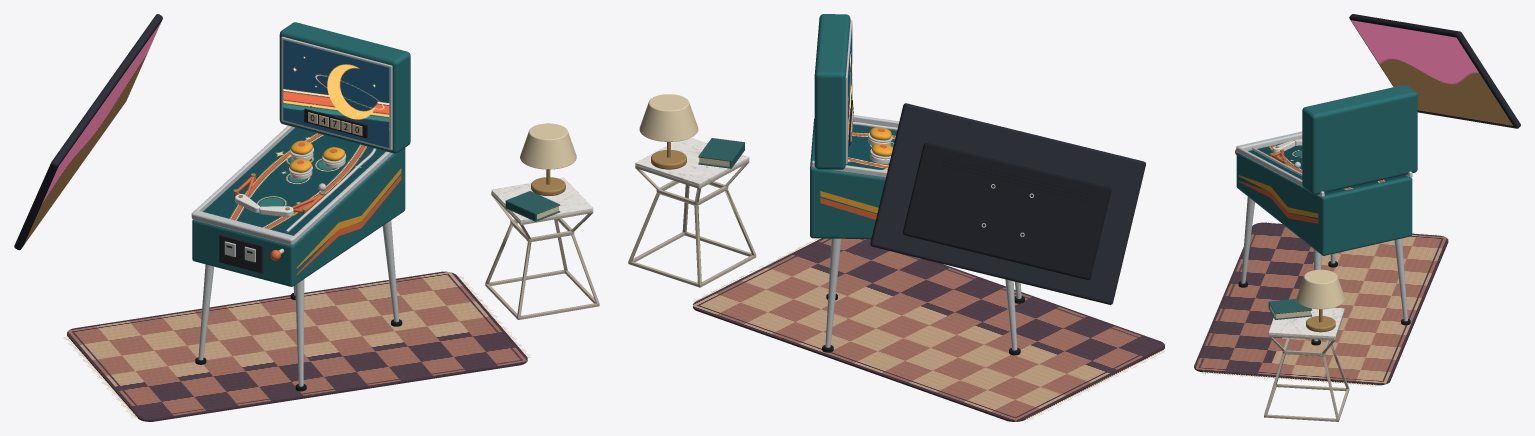
Rendered from daybed.glb.
3 views of the same model, side by side, from view 1: azimuth 30°, elevation 25°; view 2: azimuth 150°, elevation 25°; view 3: azimuth 270°, elevation 25° (orthographic). The views are drawn at different scales.
Visible parts, largest first — view 1: Flatwoven pile.002, Lacquered wedge cabinet, Eclipse / backglass, Eclipse / playfield, Backbox shell, Side-table.001, TV / graphite frame.007, Ivory lamp shade.001, TV / active picture.015, TV / active picture.014, Backglass frame, Lockdown bar (+11 smaller); view 2: Flatwoven pile.002, TV / graphite frame.007, TV / rear enclosure.007, Side-table.001, Backbox shell, Lacquered wedge cabinet, Ivory lamp shade.001, Eclipse / playfield, Splayed steel leg.001, Linen board.021, TV / cooling louvres.007, Knotted fringe.002 (+2 smaller); view 3: Flatwoven pile.002, Backbox shell, Lacquered wedge cabinet, TV / active picture.015, TV / active picture.014, Side-table.001, Ivory lamp shade.001, TV / graphite frame.007, Eclipse / playfield, TV / glass surround.007, Splayed steel leg.002, Splayed steel leg.001 (+6 smaller).
Part boxes in pixels (<box>): Flatwoven pile.002: <box>67,271,527,421</box>; Lacquered wedge cabinet: <box>192,128,405,286</box>; Eclipse / backglass: <box>283,40,389,147</box>; Eclipse / playfield: <box>203,127,385,235</box>; Backbox shell: <box>279,22,410,153</box>; Side-table.001: <box>485,177,599,319</box>; TV / graphite frame.007: <box>14,14,162,250</box>; Ivory lamp shade.001: <box>520,123,576,169</box>; TV / active picture.015: <box>75,22,161,172</box>; TV / active picture.014: <box>23,94,109,245</box>; Backglass frame: <box>281,36,392,150</box>; Lockdown bar: <box>191,210,294,245</box>; Flatwoven pile.002: <box>693,238,1164,421</box>; TV / graphite frame.007: <box>870,103,1145,304</box>; TV / rear enclosure.007: <box>902,143,1111,279</box>; Side-table.001: <box>628,138,756,287</box>; Backbox shell: <box>814,14,850,169</box>; Lacquered wedge cabinet: <box>810,118,885,239</box>; Ivory lamp shade.001: <box>639,94,698,141</box>; Eclipse / playfield: <box>846,125,896,170</box>; Splayed steel leg.001: <box>825,238,841,347</box>; Linen board.021: <box>698,138,744,161</box>; TV / cooling louvres.007: <box>941,158,1088,201</box>; Knotted fringe.002: <box>693,238,1165,420</box>; Flatwoven pile.002: <box>1194,222,1448,385</box>; Backbox shell: <box>1302,84,1417,194</box>; Lacquered wedge cabinet: <box>1236,152,1412,255</box>; TV / active picture.015: <box>1404,29,1513,125</box>; TV / active picture.014: <box>1351,20,1460,117</box>; Side-table.001: <box>1264,307,1349,421</box>; Ivory lamp shade.001: <box>1296,269,1345,309</box>; TV / graphite frame.007: <box>1349,14,1520,128</box>; Eclipse / playfield: <box>1248,143,1407,194</box>; TV / glass surround.007: <box>1349,18,1514,126</box>; Splayed steel leg.002: <box>1241,196,1254,283</box>; Splayed steel leg.001: <box>1394,238,1407,321</box>.
Bounding box in the file's own units: 12.14 × 6.58 × 7.85.
20 materials, 6 textured.
